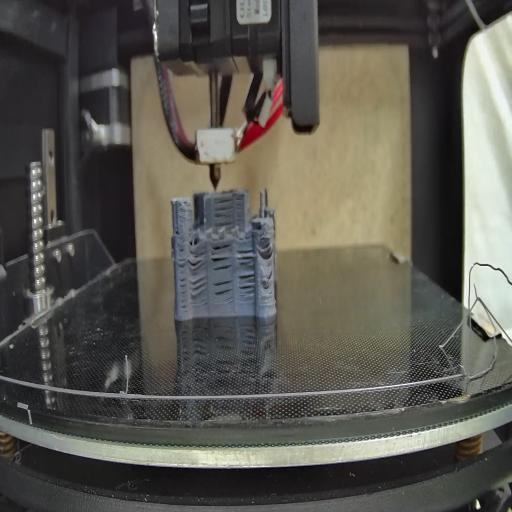cracks: (212, 196, 236, 228), (212, 240, 234, 272), (178, 246, 187, 314), (213, 279, 233, 306), (235, 272, 255, 298), (190, 276, 208, 301), (188, 250, 208, 272), (236, 246, 256, 268), (262, 243, 276, 257), (176, 218, 184, 238), (267, 270, 274, 283)
